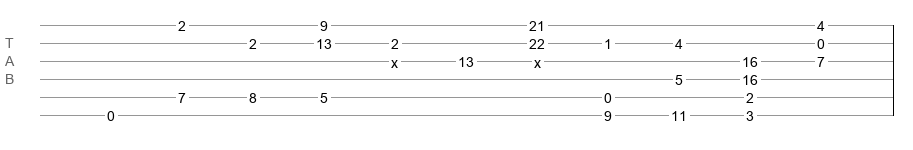0: (107, 108, 115, 118), (604, 90, 612, 100), (817, 36, 825, 46)
1: (604, 36, 612, 46)
11: (671, 108, 687, 118)
13: (316, 36, 332, 46), (458, 54, 474, 64)
16: (742, 72, 758, 82), (742, 54, 758, 64)
2: (178, 18, 186, 28), (249, 36, 257, 46), (391, 36, 399, 46), (746, 90, 754, 100)
21: (529, 18, 545, 28)
22: (529, 36, 545, 46)
3: (746, 108, 754, 118)
4: (675, 36, 683, 46), (817, 18, 825, 28)
5: (320, 90, 328, 100), (675, 72, 683, 82)
7: (178, 90, 186, 100), (817, 54, 825, 64)
8: (249, 90, 257, 100)
9: (320, 18, 328, 28), (604, 108, 612, 118)
x: (391, 55, 398, 63), (534, 55, 541, 63)
